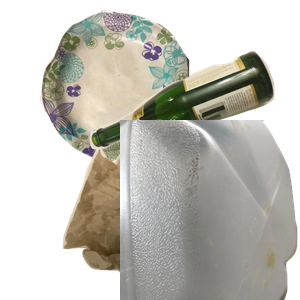glass: (87, 48, 300, 190)
paper: (37, 10, 219, 167)
plastic: (120, 120, 300, 300)
trash: (60, 142, 300, 300)
